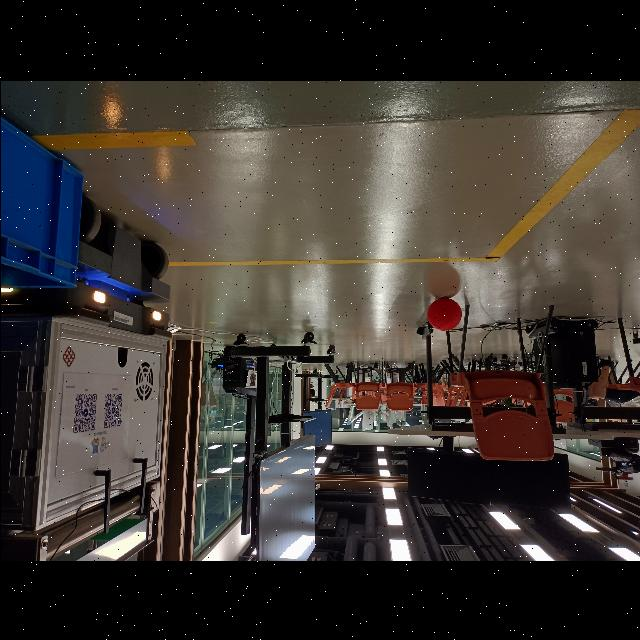R: (426, 296, 459, 330)
